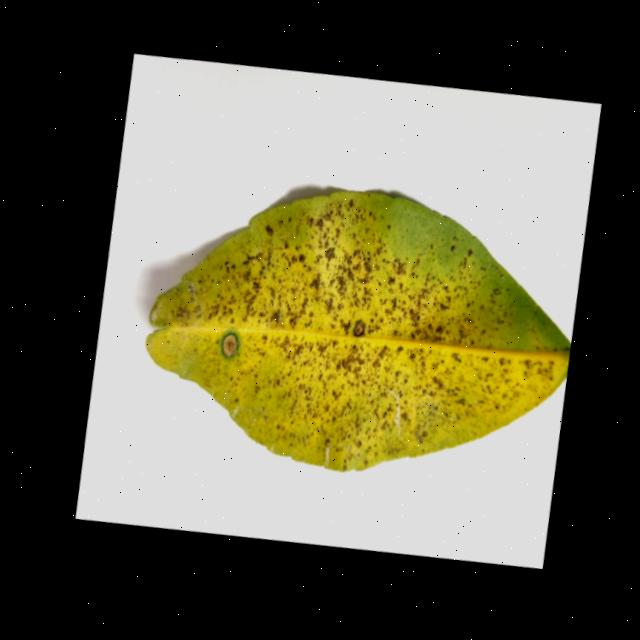melanose: (146, 192, 571, 471)
